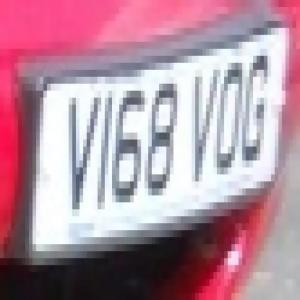Plate: (26, 43, 289, 252)
